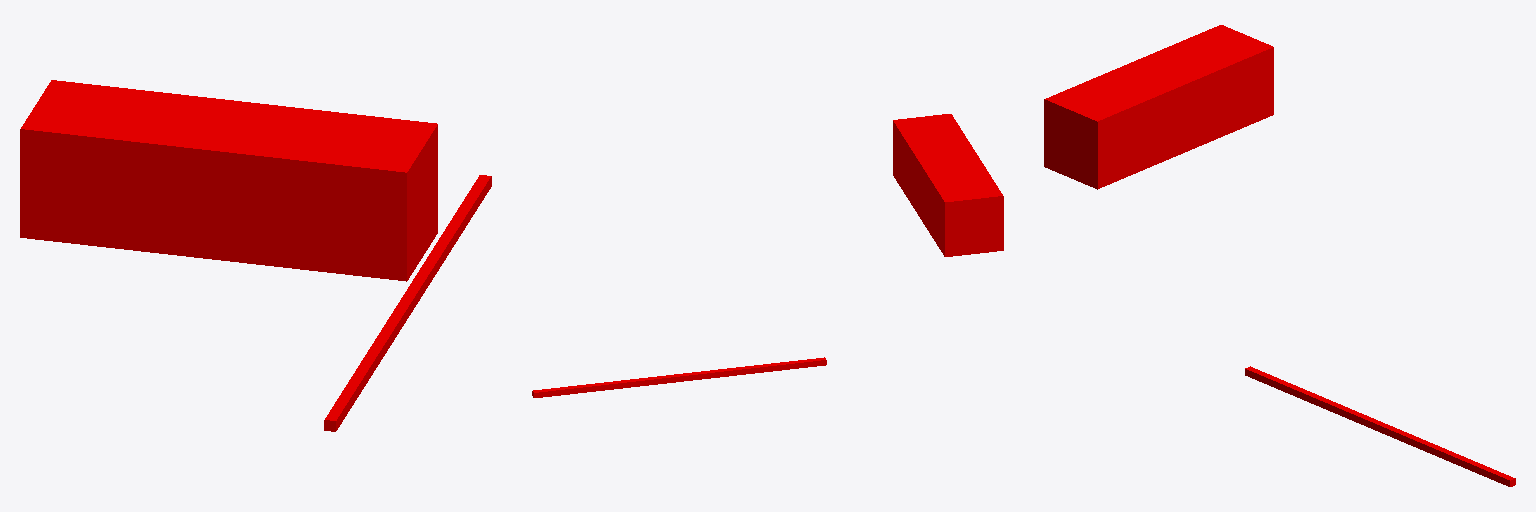
The robot description file, URDF, robot "panda":
<?xml version="1.0" ?>
<!-- =================================================================================== -->
<!-- |    This document was autogenerated by xacro from panda_arm_hand.urdf.xacro      | -->
<!-- |    EDITING THIS FILE BY HAND IS NOT RECOMMENDED                                 | -->
<!-- =================================================================================== -->
<robot name="panda"
  xmlns:xacro="http://www.ros.org/wiki/xacro">
  <link name="panda_link0">
    <inertial>
      <origin rpy="0 0 0" xyz="0 0 0.05"/>
      <mass value="2.9"/>
      <inertia ixx="0.1" ixy="0" ixz="0" iyy="0.1" iyz="0" izz="0.1"/>
    </inertial>
    <visual>
      <geometry>
        <mesh filename="package://meshes/collision/link0.obj"/>
      </geometry>
      <material name="panda_white">
        <color rgba="1. 1. 1. 1."/>
      </material>
    </visual>
    <collision>
      <geometry>
        <mesh filename="package://meshes/collision/link0.obj"/>
      </geometry>
      <material name="panda_white"/>
    </collision>
  </link>
  <link name="panda_link1">
    <inertial>
      <origin rpy="0 0 0" xyz="0 -0.04 -0.05"/>
      <mass value="2.7"/>
      <inertia ixx="0.1" ixy="0" ixz="0" iyy="0.1" iyz="0" izz="0.1"/>
    </inertial>
    <visual>
      <geometry>
        <mesh filename="package://meshes/visual/link1.obj"/>
      </geometry>
      <material name="panda_white"/>
    </visual>
    <collision>
      <geometry>
        <mesh filename="package://meshes/collision/link1.obj"/>
      </geometry>
      <material name="panda_white"/>
    </collision>
  </link>
  <joint name="panda_joint1" type="revolute">
    <safety_controller k_position="100.0" k_velocity="40.0" soft_lower_limit="-2.8973" soft_upper_limit="2.8973"/>
    <origin rpy="0 0 0" xyz="0 0 0.333"/>
    <parent link="panda_link0"/>
    <child link="panda_link1"/>
    <axis xyz="0 0 1"/>
    <limit effort="87" lower="-2.9671" upper="2.9671" velocity="2.1750"/>
  </joint>
  <link name="panda_link2">
    <inertial>
      <origin rpy="0 0 0" xyz="0 -0.04 0.06"/>
      <mass value="2.73"/>
      <inertia ixx="0.1" ixy="0" ixz="0" iyy="0.1" iyz="0" izz="0.1"/>
    </inertial>
    <visual>
      <geometry>
        <mesh filename="package://meshes/visual/link2.obj"/>
      </geometry>
      <material name="panda_white"/>
    </visual>
    <collision>
      <geometry>
        <mesh filename="package://meshes/collision/link2.obj"/>
      </geometry>
      <material name="panda_white"/>
    </collision>
  </link>
  <joint name="panda_joint2" type="revolute">
    <safety_controller k_position="100.0" k_velocity="40.0" soft_lower_limit="-1.7628" soft_upper_limit="1.7628"/>
    <origin rpy="-1.57079632679 0 0" xyz="0 0 0"/>
    <parent link="panda_link1"/>
    <child link="panda_link2"/>
    <axis xyz="0 0 1"/>
    <limit effort="87" lower="-1.8326" upper="1.8326" velocity="2.1750"/>
  </joint>
  <link name="panda_link3">
    <inertial>
      <origin rpy="0 0 0" xyz="0.01 0.01 -0.05"/>
      <mass value="2.04"/>
      <inertia ixx="0.1" ixy="0" ixz="0" iyy="0.1" iyz="0" izz="0.1"/>
    </inertial>
    <visual>
      <geometry>
        <mesh filename="package://meshes/visual/link3.obj"/>
      </geometry>
      <material name="panda_red">
        <color rgba="1. 1. 1. 1."/>
      </material>
    </visual>
    <collision>
      <geometry>
        <mesh filename="package://meshes/collision/link3.obj"/>
      </geometry>
    </collision>
  </link>
  <joint name="panda_joint3" type="revolute">
    <safety_controller k_position="100.0" k_velocity="40.0" soft_lower_limit="-2.8973" soft_upper_limit="2.8973"/>
    <origin rpy="1.57079632679 0 0" xyz="0 -0.316 0"/>
    <parent link="panda_link2"/>
    <child link="panda_link3"/>
    <axis xyz="0 0 1"/>
    <limit effort="87" lower="-2.9671" upper="2.9671" velocity="2.1750"/>
  </joint>
  <link name="panda_link4">
    <inertial>
      <origin rpy="0 0 0" xyz="-0.03 0.03 0.02"/>
      <mass value="2.08"/>
      <inertia ixx="0.1" ixy="0" ixz="0" iyy="0.1" iyz="0" izz="0.1"/>
    </inertial>
    <visual>
      <geometry>
        <mesh filename="package://meshes/visual/link4.obj"/>
      </geometry>
      <material name="panda_white"/>
    </visual>
    <collision>
      <geometry>
        <mesh filename="package://meshes/collision/link4.obj"/>
      </geometry>
      <material name="panda_white"/>
    </collision>
  </link>
  <joint name="panda_joint4" type="revolute">
    <safety_controller k_position="100.0" k_velocity="40.0" soft_lower_limit="-3.0718" soft_upper_limit="-0.0698"/>
    <origin rpy="1.57079632679 0 0" xyz="0.0825 0 0"/>
    <parent link="panda_link3"/>
    <child link="panda_link4"/>
    <axis xyz="0 0 1"/>
    <limit effort="87" lower="-3.1416" upper="0.0" velocity="2.1750"/>
  </joint>
  <link name="panda_link5">
    <inertial>
      <origin rpy="0 0 0" xyz="0 0.04 -0.12"/>
      <mass value="3"/>
      <inertia ixx="0.1" ixy="0" ixz="0" iyy="0.1" iyz="0" izz="0.1"/>
    </inertial>
    <visual>
      <geometry>
        <mesh filename="package://meshes/visual/link5.obj"/>
      </geometry>
      <material name="panda_white"/>
    </visual>
    <collision>
      <geometry>
        <mesh filename="package://meshes/collision/link5.obj"/>
      </geometry>
      <material name="panda_white"/>
    </collision>
  </link>
  <joint name="panda_joint5" type="revolute">
    <safety_controller k_position="100.0" k_velocity="40.0" soft_lower_limit="-2.8973" soft_upper_limit="2.8973"/>
    <origin rpy="-1.57079632679 0 0" xyz="-0.0825 0.384 0"/>
    <parent link="panda_link4"/>
    <child link="panda_link5"/>
    <axis xyz="0 0 1"/>
    <limit effort="12" lower="-2.9671" upper="2.9671" velocity="2.6100"/>
  </joint>
  <link name="panda_link6">
    <inertial>
      <origin rpy="0 0 0" xyz="0.04 0 0"/>
      <mass value="1.3"/>
      <inertia ixx="0.1" ixy="0" ixz="0" iyy="0.1" iyz="0" izz="0.1"/>
    </inertial>
    <visual>
      <geometry>
        <mesh filename="package://meshes/visual/link6.obj"/>
      </geometry>
      <material name="panda_white"/>
    </visual>
    <collision>
      <geometry>
        <mesh filename="package://meshes/collision/link6.obj"/>
      </geometry>
      <material name="panda_white"/>
    </collision>
  </link>
  <joint name="panda_joint6" type="revolute">
    <safety_controller k_position="100.0" k_velocity="40.0" soft_lower_limit="-0.0175" soft_upper_limit="3.7525"/>
    <origin rpy="1.57079632679 0 0" xyz="0 0 0"/>
    <parent link="panda_link5"/>
    <child link="panda_link6"/>
    <axis xyz="0 0 1"/>
    <limit effort="12" lower="-0.0873" upper="3.8223" velocity="2.6100"/>
  </joint>
  <link name="panda_link7">
    <inertial>
      <origin rpy="0 0 0" xyz="0 0 0.08"/>
      <mass value=".2"/>
      <inertia ixx="0.1" ixy="0" ixz="0" iyy="0.1" iyz="0" izz="0.1"/>
    </inertial>
    <visual>
      <geometry>
        <mesh filename="package://meshes/collision/link7.obj"/>
      </geometry>
      <material name="panda_white"/>
    </visual>
    <collision>
      <geometry>
        <mesh filename="package://meshes/collision/link7.obj"/>
      </geometry>
      <material name="panda_white"/>
    </collision>
  </link>
  <joint name="panda_joint7" type="revolute">
    <safety_controller k_position="100.0" k_velocity="40.0" soft_lower_limit="-2.8973" soft_upper_limit="2.8973"/>
    <origin rpy="1.57079632679 0 0" xyz="0.088 0 0"/>
    <parent link="panda_link6"/>
    <child link="panda_link7"/>
    <axis xyz="0 0 1"/>
    <limit effort="12" lower="-2.9671" upper="2.9671" velocity="2.6100"/>
  </joint>
  <link name="panda_link8">
    <inertial>
      <origin rpy="0 0 0" xyz="0 0 0"/>
      <mass value="0.0"/>
      <inertia ixx="0.1" ixy="0" ixz="0" iyy="0.1" iyz="0" izz="0.1"/>
    </inertial>
  </link>
  <joint name="panda_joint8" type="fixed">
    <origin rpy="0 0 0" xyz="0 0 0.107"/>
    <parent link="panda_link7"/>
    <child link="panda_link8"/>
    <axis xyz="0 0 0"/>
  </joint>
  <joint name="panda_hand_joint" type="fixed">
    <parent link="panda_link8"/>
    <child link="panda_hand"/>
    <origin rpy="0 0 -0.785398163397" xyz="0 0 0"/>
  </joint>
  <link name="panda_hand">
    <inertial>
      <origin rpy="0 0 0" xyz="0 0 0.04"/>
      <mass value=".81"/>
      <inertia ixx="0.1" ixy="0" ixz="0" iyy="0.1" iyz="0" izz="0.1"/>
    </inertial>
    <visual>
      <geometry>
        <mesh filename="package://meshes/visual/hand.obj"/>
      </geometry>
      <material name="panda_white"/>
    </visual>
    <collision>
      <geometry>
        <mesh filename="package://meshes/collision/hand.obj"/>
      </geometry>
      <material name="panda_white"/>
    </collision>
  </link>

  <link name="cam">
    <contact>
      <friction_anchor/>
      <stiffness value="30000.0"/>
      <damping value="1000.0"/>
      <spinning_friction value="0.1"/>
      <lateral_friction value="1.0"/>
    </contact>
    <inertial>
      <origin rpy="0 0 0" xyz="0 0 0"/>
      <mass value="0.1"/>
      <inertia ixx="0.1" ixy="0" ixz="0" iyy="0.1" iyz="0" izz="0.1"/>
    </inertial>
    <visual>
      <origin rpy="0 0 0" xyz="-0.06 0 -0.035"/>
      <geometry>
        <box size="0.03 0.1 0.03"/>
      </geometry>
      <material name="stick_red">
        <color rgba="1 0.0 0.0 1"/>
      </material>
    </visual>
    <collision>
      <origin rpy="0 0 0" xyz="-0.06 0 -0.035"/>
      <geometry>
        <box size="0.03 0.1 0.03"/>
      </geometry>
    </collision>
  </link>
  <joint name="cam_joint" type="fixed">
    <parent link="panda_hand"/>
    <child link="cam"/>
    <origin rpy="0 0 0" xyz="0 -0.005 0.05"/>
  </joint>

  <link name="panda_leftfinger">
    <contact>
      <friction_anchor/>
      <stiffness value="30000.0"/>
      <damping value="1000.0"/>
      <spinning_friction value="0.1"/>
      <lateral_friction value="1.0"/>
    </contact>
    <inertial>
      <origin rpy="0 0 0" xyz="0 0.01 0.02"/>
      <mass value="0.1"/>
      <inertia ixx="0.1" ixy="0" ixz="0" iyy="0.1" iyz="0" izz="0.1"/>
    </inertial>
    <visual>
      <geometry>
        <mesh filename="package://meshes/visual/finger.obj"/>
      </geometry>
      <material name="panda_white"/>
    </visual>
    <collision>
      <geometry>
        <mesh filename="package://meshes/collision/finger.obj"/>
      </geometry>
      <material name="panda_white"/>
    </collision>
  </link>
  <link name="panda_rightfinger">
    <contact>
      <friction_anchor/>
      <stiffness value="30000.0"/>
      <damping value="1000.0"/>
      <spinning_friction value="0.1"/>
      <lateral_friction value="1.0"/>
    </contact>
    <inertial>
      <origin rpy="0 0 0" xyz="0 -0.01 0.02"/>
      <mass value="0.1"/>
      <inertia ixx="0.1" ixy="0" ixz="0" iyy="0.1" iyz="0" izz="0.1"/>
    </inertial>
    <visual>
      <origin rpy="0 0 3.14159265359" xyz="0 0 0"/>
      <geometry>
        <mesh filename="package://meshes/visual/finger.obj"/>
      </geometry>
      <material name="panda_white"/>
    </visual>
    <collision>
      <origin rpy="0 0 3.14159265359" xyz="0 0 0"/>
      <geometry>
        <mesh filename="package://meshes/collision/finger.obj"/>
      </geometry>
      <material name="panda_white"/>
    </collision>
  </link>

  <link name="stick">
    <contact>
      <friction_anchor/>
      <stiffness value="30000.0"/>
      <damping value="1000.0"/>
      <spinning_friction value="0.1"/>
      <lateral_friction value="1.0"/>
    </contact>
    <inertial>
      <origin rpy="0 0 0" xyz="0 0 0"/>
      <mass value="0.1"/>
      <inertia ixx="0.1" ixy="0" ixz="0" iyy="0.1" iyz="0" izz="0.1"/>
    </inertial>
    <visual>
      <origin rpy="0 0 0" xyz="0.075 0 0"/>
      <geometry>
        <box size="-0.15 0.003 0.003"/>
      </geometry>
      <material name="stick_red">
        <color rgba="1 0.0 0.0 1"/>
      </material>
    </visual>
    <collision>
      <origin rpy="0 0 0" xyz="0.075 0 0"/>
      <geometry>
        <box size="-0.15 0.003 0.003"/>
      </geometry>
    </collision>
  </link>
  <joint name="stick_finger_joint" type="fixed">
    <parent link="panda_leftfinger"/>
    <child link="stick"/>
    <origin rpy="0 0 0" xyz="0 0.005 0.05"/>
  </joint>

  <link name="sticktarget">
    <inertial>
      <origin rpy="0 0 0" xyz="0 0 0"/>
      <mass value="0.0"/>
      <inertia ixx="0.1" ixy="0" ixz="0" iyy="0.1" iyz="0" izz="0.1"/>
    </inertial>
  </link>
  <joint name="sticktarget_hand" type="fixed">
    <parent link="stick"/>
    <child link="sticktarget"/>
    <origin rpy="0 0 0" xyz="0.15 0 0"/>
  </joint>

  <joint name="panda_finger_joint1" type="prismatic">
    <parent link="panda_hand"/>
    <child link="panda_leftfinger"/>
    <origin rpy="0 0 0" xyz="0 0 0.0584"/>
    <axis xyz="0 1 0"/>
    <limit effort="20" lower="0.0" upper="0.04" velocity="0.2"/>
  </joint>
  <joint name="panda_finger_joint2" type="prismatic">
    <parent link="panda_hand"/>
    <child link="panda_rightfinger"/>
    <origin rpy="0 0 0" xyz="0 0 0.0584"/>
    <axis xyz="0 -1 0"/>
    <limit effort="20" lower="0.0" upper="0.04" velocity="0.2"/>
    <mimic joint="panda_finger_joint1"/>
  </joint>
  <link name="panda_grasptarget">
    <inertial>
      <origin rpy="0 0 0" xyz="0 0 0"/>
      <mass value="0.0"/>
      <inertia ixx="0.1" ixy="0" ixz="0" iyy="0.1" iyz="0" izz="0.1"/>
    </inertial>
  </link>
  <joint name="panda_grasptarget_hand" type="fixed">
    <parent link="panda_hand"/>
    <child link="panda_grasptarget"/>
    <origin rpy="0 0 0" xyz="0 0 0.105"/>
  </joint>

</robot>

--- What the picture shows (computed from the rendered views, not written in the file) ---
Views: 3 orthographic renders of the robot side by side, from view 1: azimuth 30°, elevation 25°; view 2: azimuth 150°, elevation 25°; view 3: azimuth 270°, elevation 25°.
Model panda with 16 links and 15 joints (7 revolute, 2 prismatic, 6 fixed), rooted at panda_link0, posed every joint at zero.
Visible links, largest first — view 1: cam, stick; view 2: cam, stick; view 3: cam, stick.
Boxes of the visible links, <box> form: cam: <box>20,80,437,281</box>; stick: <box>324,175,491,431</box>; cam: <box>893,114,1003,256</box>; stick: <box>532,357,826,397</box>; cam: <box>1044,25,1273,189</box>; stick: <box>1245,366,1515,486</box>.
Bounding box of the posed robot: 0.2026 × 0.1884 × 0.1099 m (x, y, z).
0 mesh visuals loaded from 10 distinct referenced files (none loaded); not drawn: 11 (reference not matched to a file when rendering).